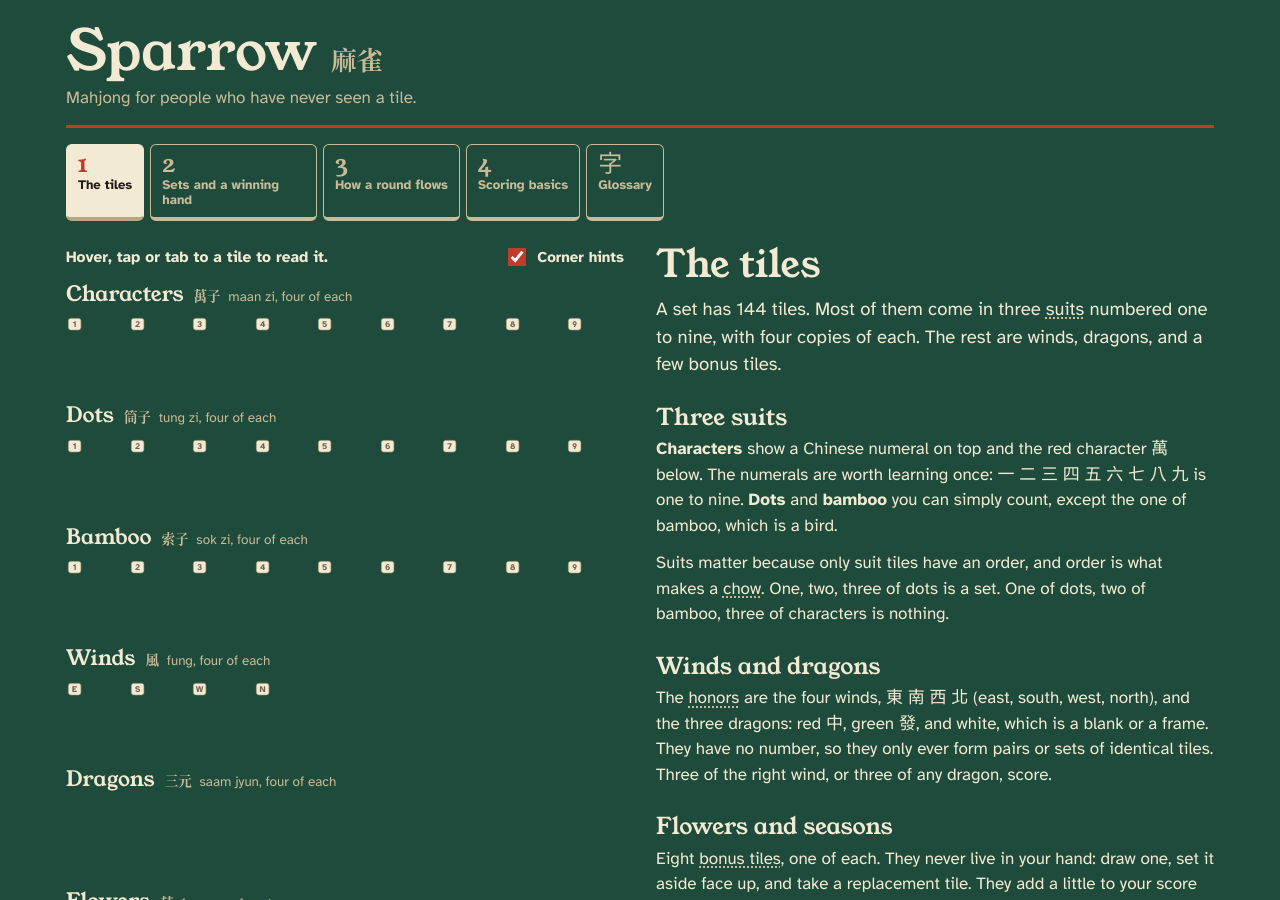
App › opens on the tiles and switches lessons
Check: the heading "The tiles" is shown, box [656, 237, 821, 291]
Click the link "2 Sets and a winning hand" at (234, 182), box [150, 144, 317, 221]
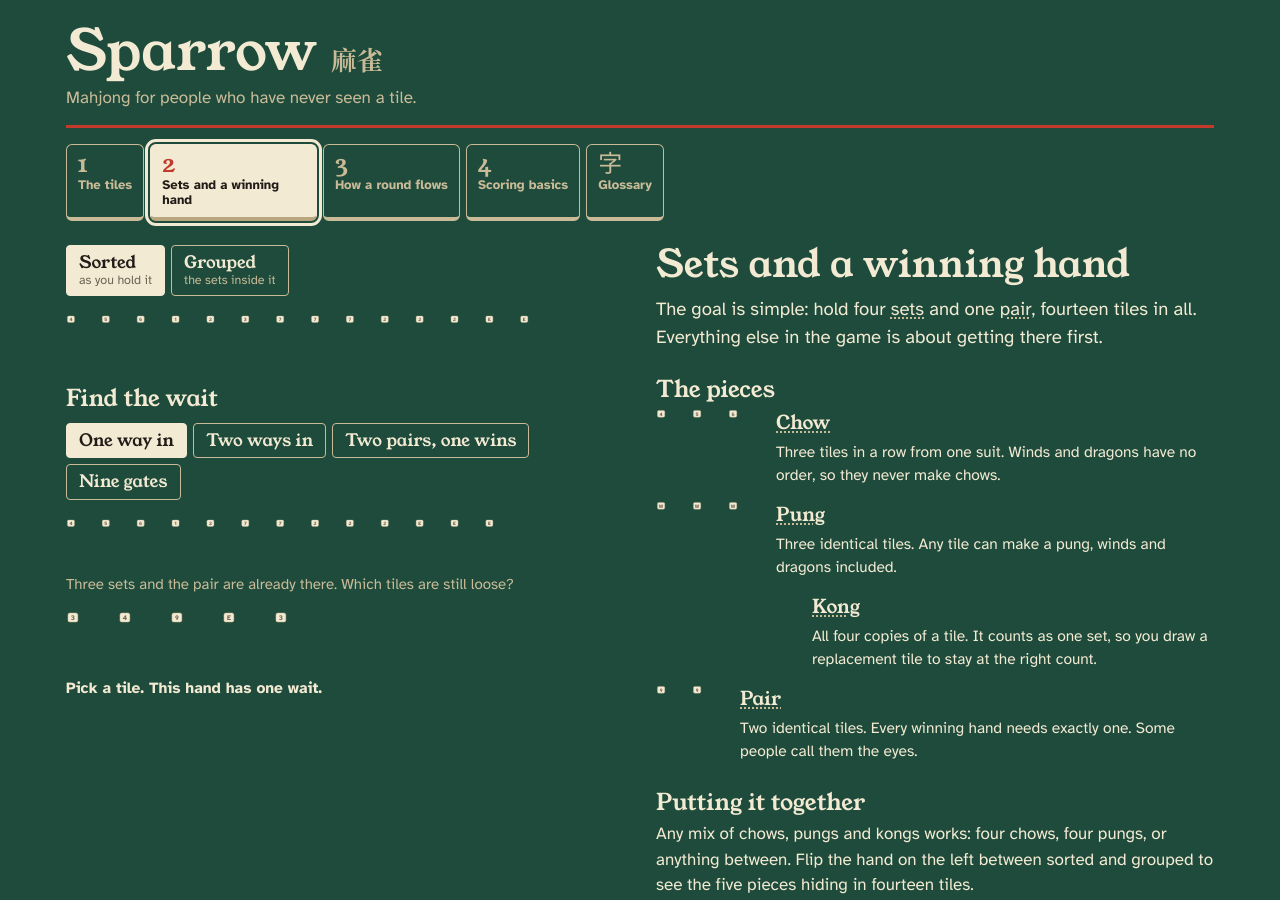
Check: the heading "Sets and a winning hand" is shown, box [656, 237, 1130, 291]
Click the link "3 How a round flows" at (392, 182), box [323, 144, 460, 221]
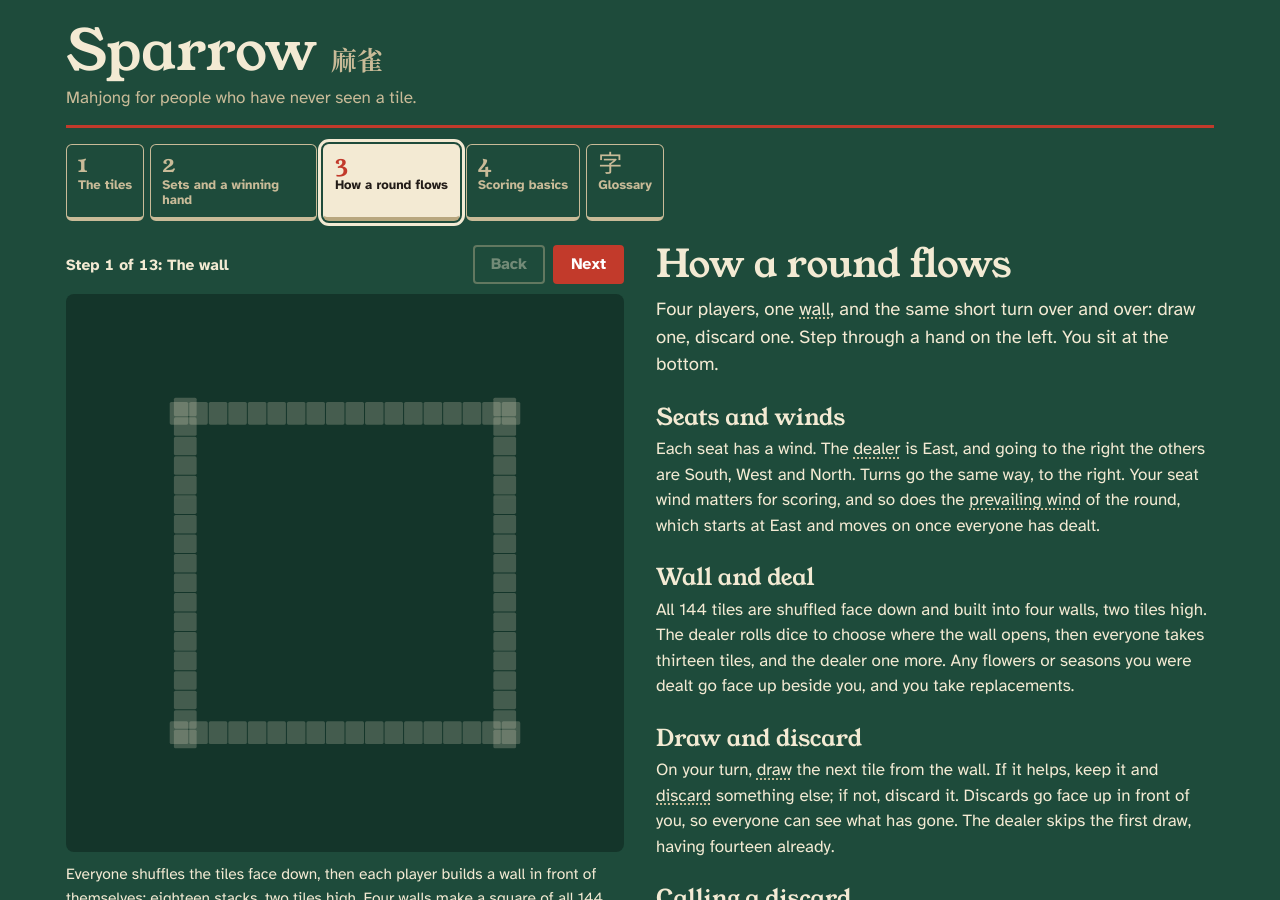
Check: the text "Step 1 of 13: The wall" is shown, box [66, 255, 229, 274]
Click the button "Next" at (589, 265), box [553, 245, 624, 284]
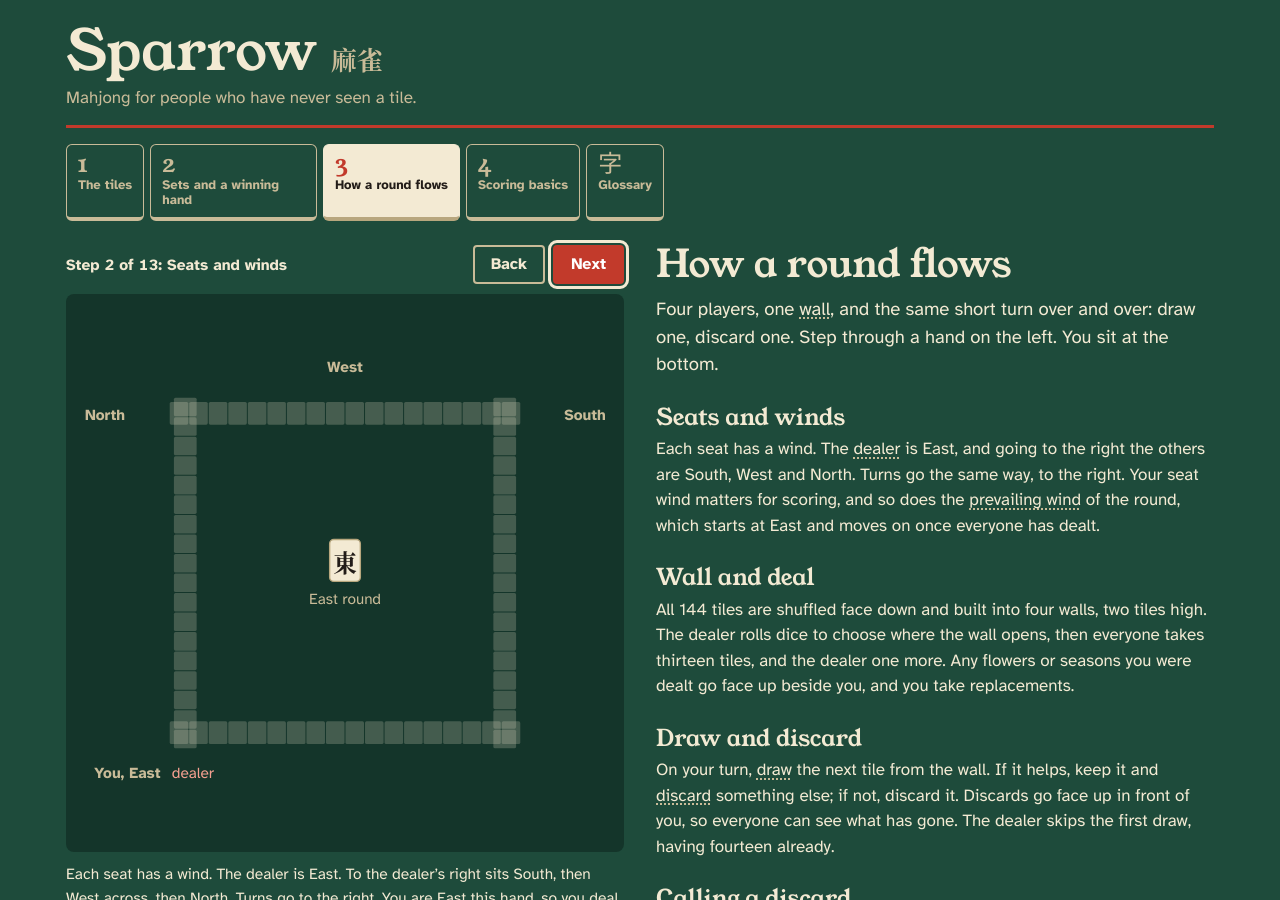
Check: the text "Step 2 of 13: Seats and winds" is shown, box [66, 255, 287, 274]
Click the link "字 Glossary" at (625, 182), box [586, 144, 664, 221]
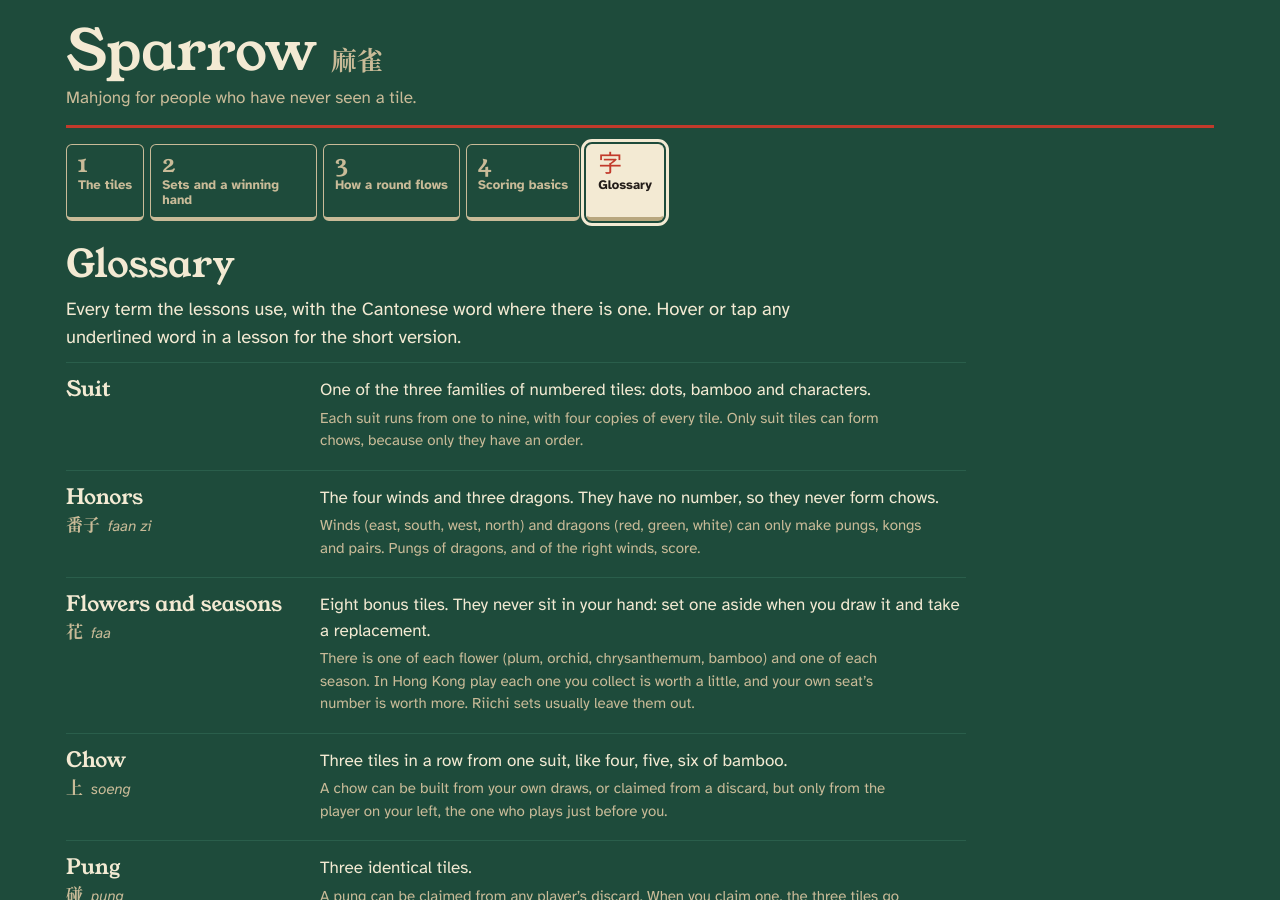
Check: the heading "Glossary" is shown, box [66, 237, 235, 291]
